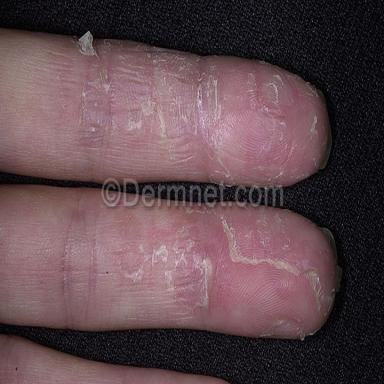eczema: (72, 31, 330, 184), (120, 207, 335, 339)
